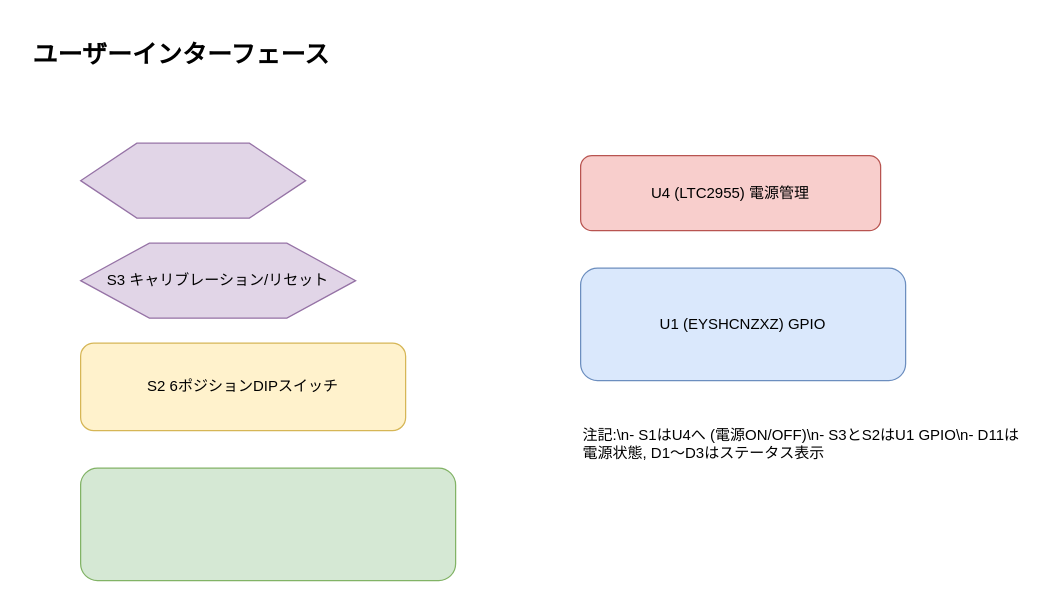
Some shapes in this 1053 by 603 pixel diagram are drawn without their labels. The shapes that lost their labels are listed below. From the top down, each one's centre as x and y in pixels, then its label:
At [192,180]: "S1 電源ボタン".
At [267,524]: "LED群 D1(青)/D2(橙)/D3(緑)\nD11 電源LED(緑)".
